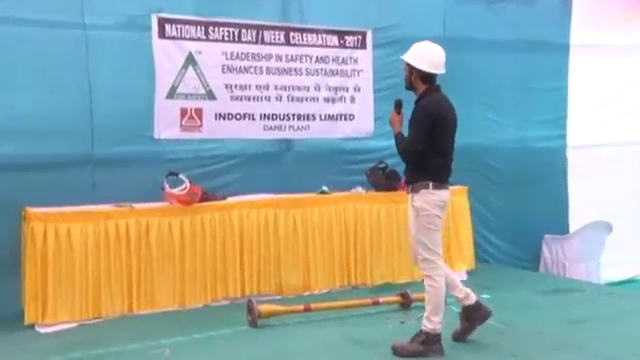helmet: (396, 39, 449, 75)
helmet_on: (396, 38, 448, 95)
person: (390, 36, 493, 354)
